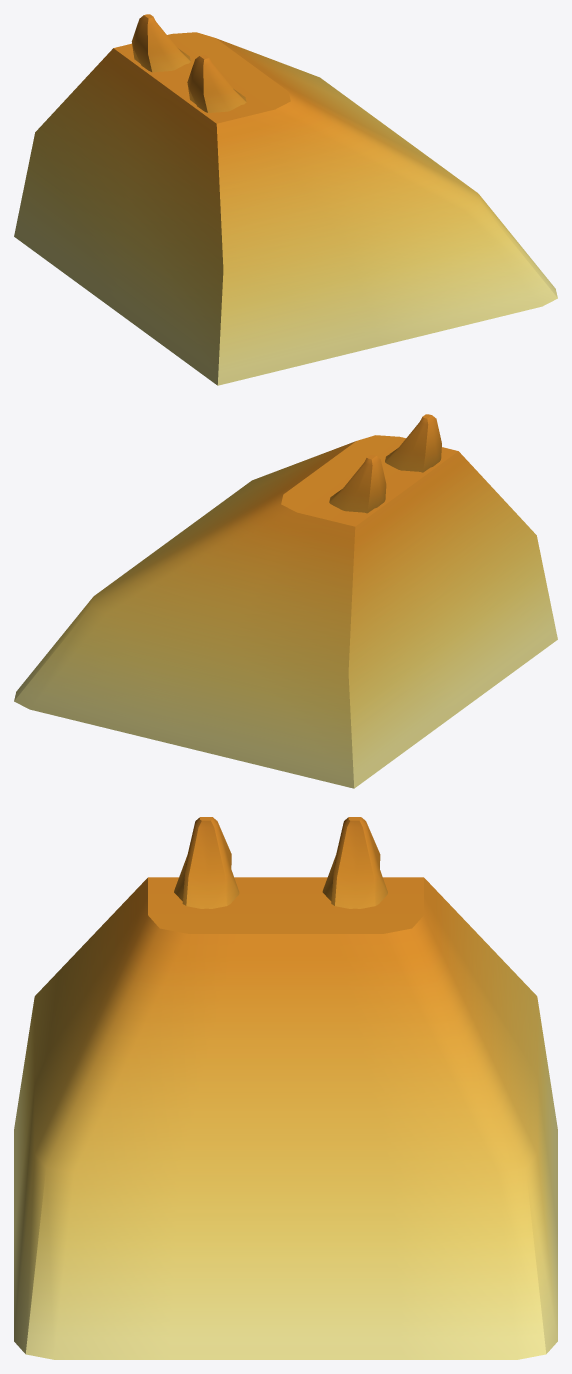
The model's file is HouseRoof01.fbx.
3 renders of one model, top to bottom at view 1: azimuth 30°, elevation 25°; view 2: azimuth 150°, elevation 25°; view 3: azimuth 270°, elevation 25°, orthographic. The views are drawn at different scales.
Parts seen in each view (by area): view 1: HouseRoof01; view 2: HouseRoof01; view 3: HouseRoof01.
Boxes of the visible parts, x1=… form: HouseRoof01: x1=14, y1=14, x2=557, y2=385; HouseRoof01: x1=14, y1=414, x2=557, y2=788; HouseRoof01: x1=14, y1=817, x2=557, y2=1359.
Size of the model in its own units: 2.44 by 1.73 by 2.44.
1 material, 1 textured.
